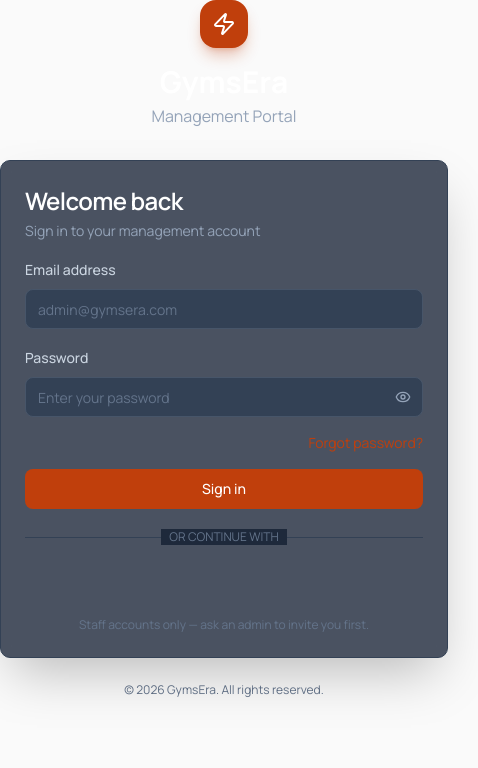
Test: CMS login — portal access follows permissions, not the account role (NEW-43) › does not let a member in when their permissions cannot be checked
Type "person@example.test" into the field labelled "Email address" at (224, 309), box [25,289,423,329]
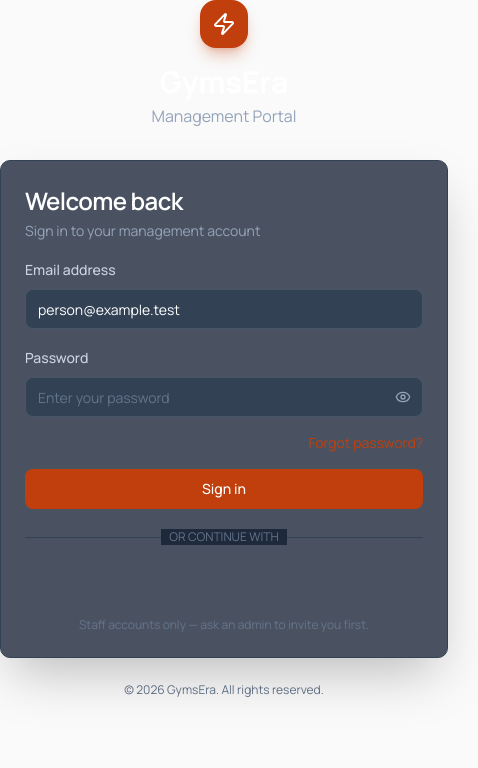
Type "placeholder-pass" into the password field with placeholder "Enter your password" at (224, 397), box [25,377,423,417]
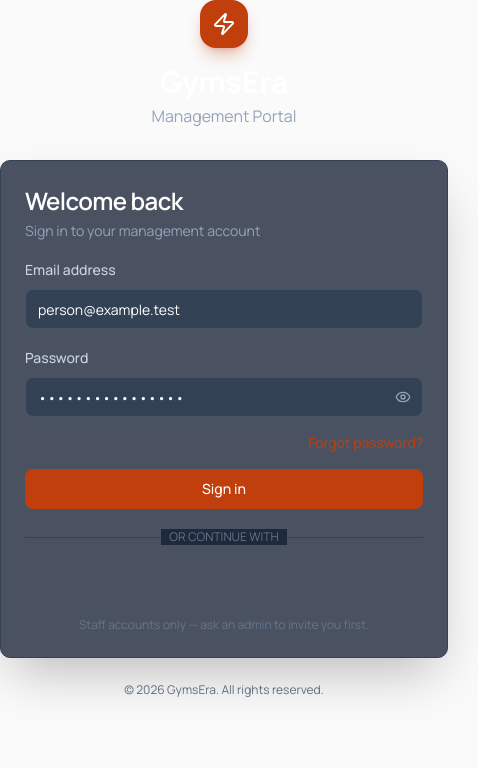
Click the button "Sign in" at (224, 489), box [25,469,423,509]
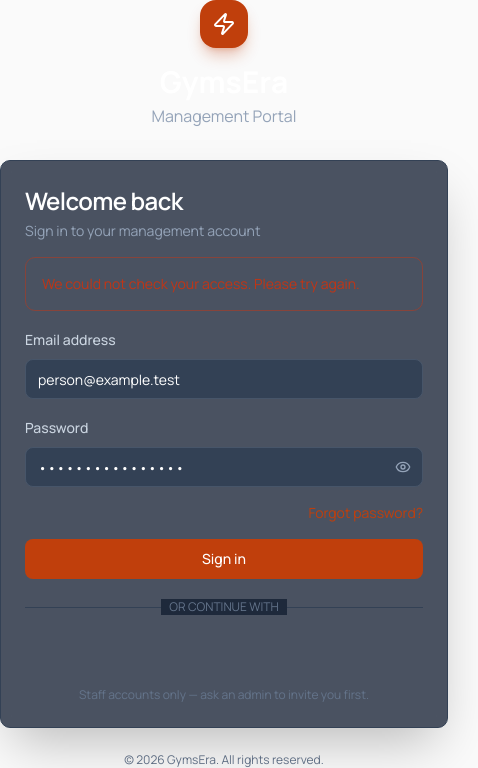
Now the text "We could not check your access. Please try again." is shown, box [42,274,406,294]
